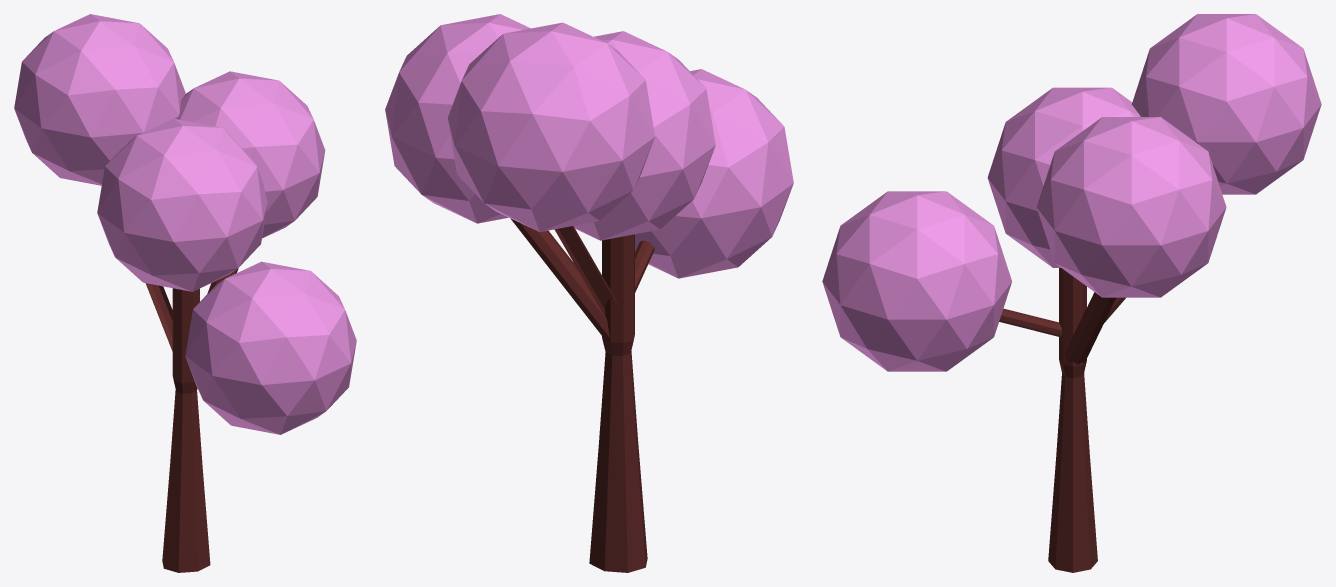
File: tree.glb
3 renders of one model, left to right at view 1: azimuth 30°, elevation 25°; view 2: azimuth 150°, elevation 25°; view 3: azimuth 270°, elevation 25°, orthographic. The views are drawn at different scales.
Visible parts, largest first — view 1: Cylinder_2; view 2: Cylinder_2; view 3: Cylinder_2.
Boxes of the visible parts, x1,y1,x2,y2 form: Cylinder_2: [14, 14, 356, 572]; Cylinder_2: [385, 14, 793, 572]; Cylinder_2: [822, 14, 1321, 572].
Size of the model in its own units: 3.16 by 6.21 by 5.26.
